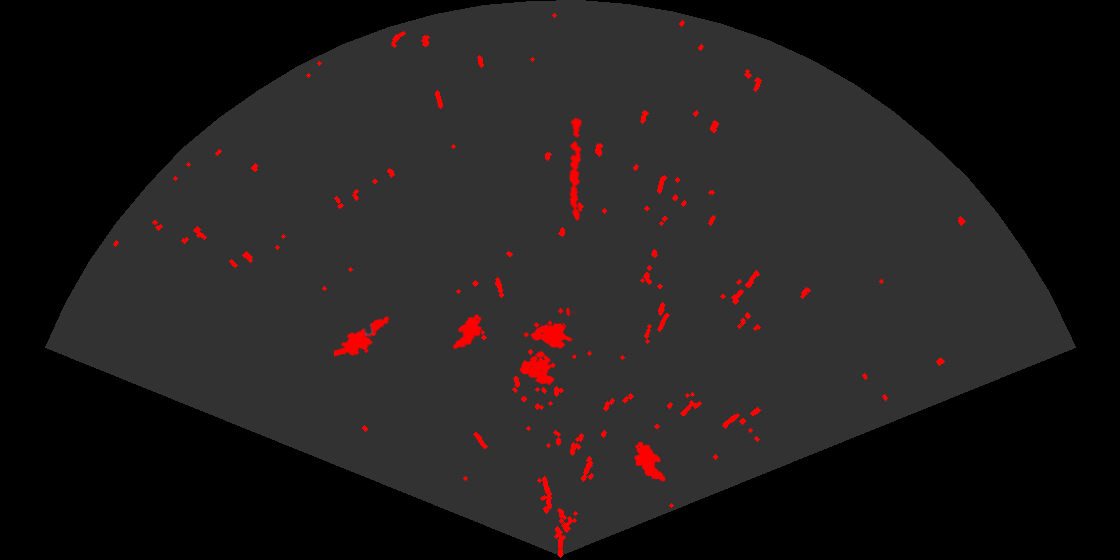AUV: (633, 440, 667, 483), (451, 313, 484, 351)
cage: (518, 308, 576, 387)
chain: (568, 115, 583, 221)
frogman: (334, 315, 392, 358)
